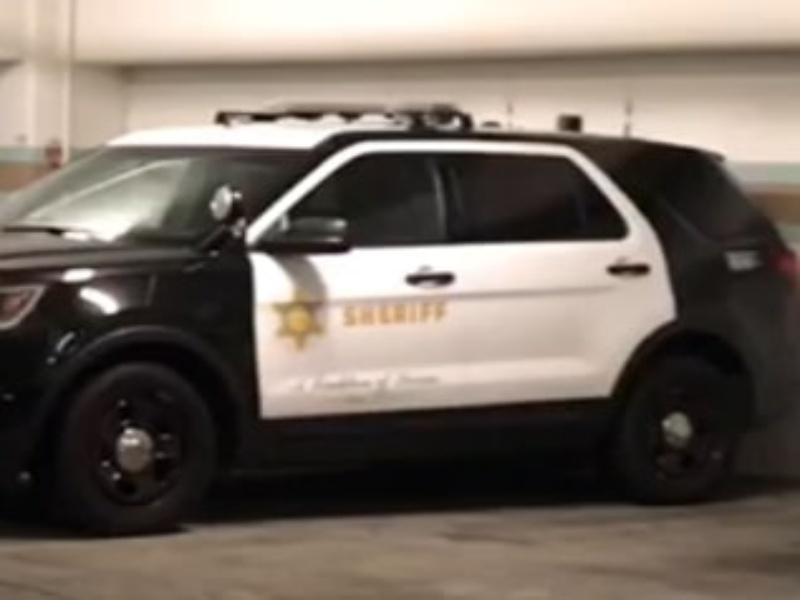policecar: (8, 111, 800, 505)
